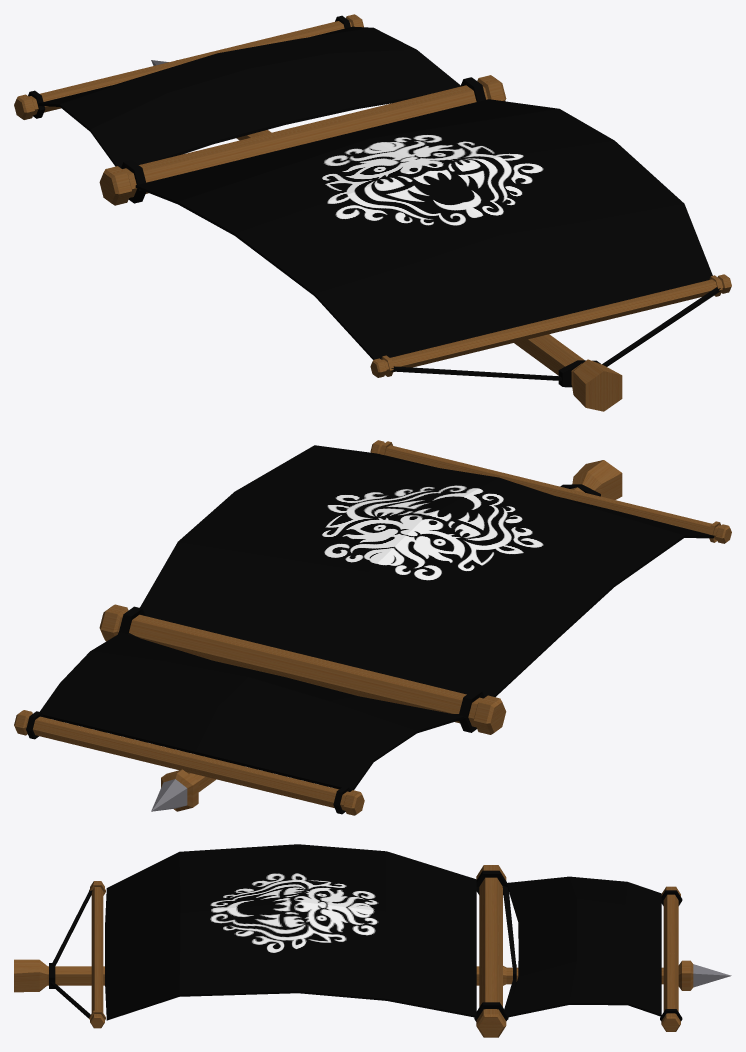
Rendered from sail_a_11.fbx.
3 renders of one model, top to bottom at view 1: azimuth 30°, elevation 25°; view 2: azimuth 150°, elevation 25°; view 3: azimuth 270°, elevation 25°, orthographic. The views are drawn at different scales.
Visible parts, largest first — view 1: Cube.061; view 2: Cube.061; view 3: Cube.061.
Boxes of the visible parts, x1,y1,x2,y2 form: Cube.061: (14,14,731,411); Cube.061: (14,440,731,815); Cube.061: (14,844,731,1037).
Size of the model in its own units: 107 by 29.73 by 215.
